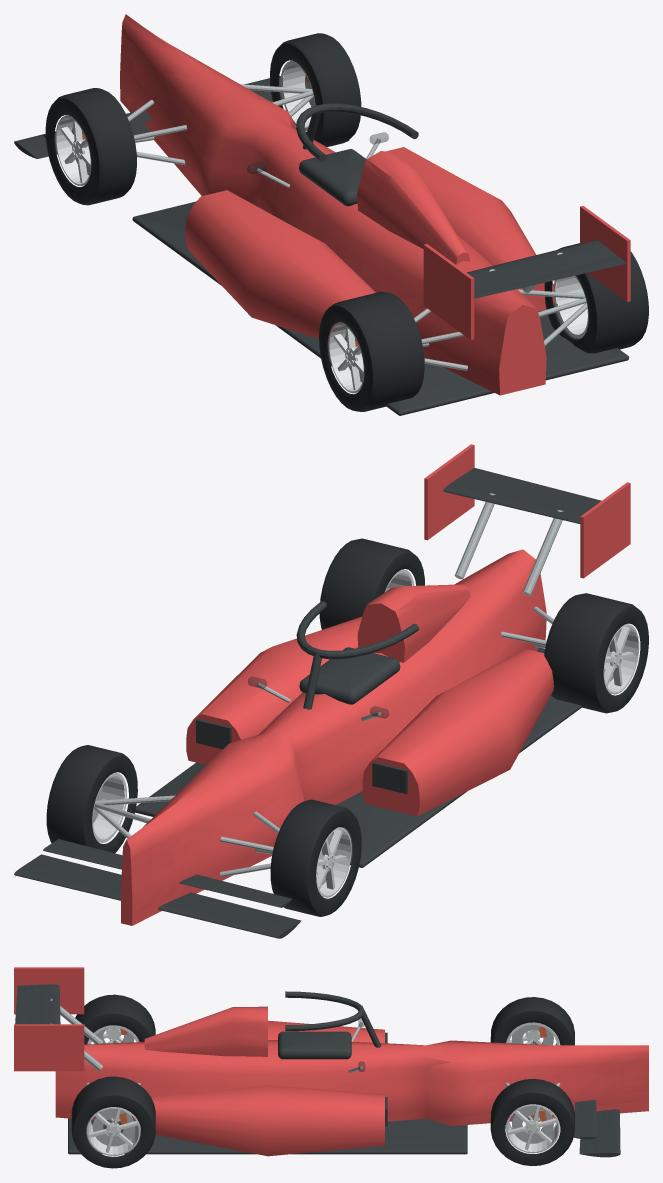
File: formula_ge.glb
The picture shows the model from 3 angles, top to bottom: view 1: azimuth 30°, elevation 25°; view 2: azimuth 150°, elevation 25°; view 3: azimuth 270°, elevation 25°; orthographic projection. The views are drawn at different scales.
Visible parts, largest first — view 1: Body, Wheel_RL, Wheel_FL, Wheel_FR, Wheel_RR; view 2: Body, Wheel_RL, Wheel_FL, Wheel_FR, Wheel_RR; view 3: Body, Wheel_RR, Wheel_FR, Wheel_FL, Wheel_RL.
Boxes of the visible parts, left/top/right/bottom form: Body: left=14, top=14, right=630, bottom=415; Wheel_RL: left=319, top=292, right=424, bottom=411; Wheel_FL: left=45, top=88, right=136, bottom=205; Wheel_FR: left=270, top=33, right=361, bottom=146; Wheel_RR: left=544, top=243, right=648, bottom=353; Body: left=14, top=444, right=630, bottom=938; Wheel_RL: left=544, top=593, right=648, bottom=713; Wheel_FL: left=270, top=799, right=361, bottom=916; Wheel_FR: left=46, top=745, right=137, bottom=853; Wheel_RR: left=319, top=538, right=424, bottom=629; Body: left=14, top=967, right=648, bottom=1157; Wheel_RR: left=71, top=1076, right=155, bottom=1168; Wheel_FR: left=490, top=1078, right=574, bottom=1165; Wheel_FL: left=490, top=997, right=574, bottom=1045; Wheel_RL: left=75, top=994, right=155, bottom=1044.
Bounding box in the file's own units: 2.06 × 1.16 × 5.41.
